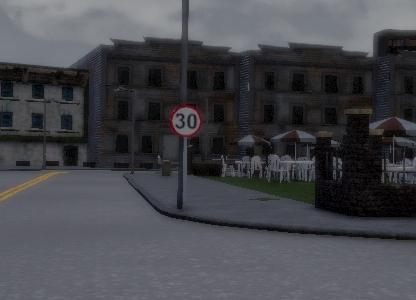Speed_30: (168, 103, 203, 140)
